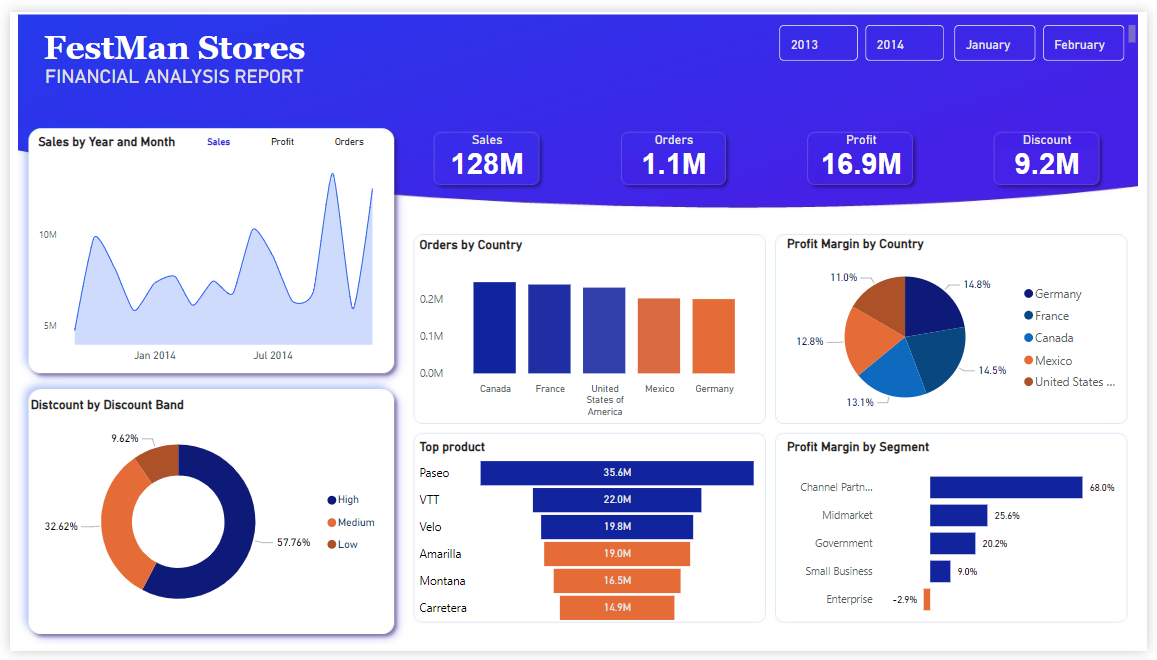

The dashboard page shown, as its layout file describes it:
{"tool":"powerbi","page":{"name":"Page 1","canvas":[1300,730],"ordinal":0},"visuals":[{"type":"areaChart","fields":{"Category":["Date table.Date.Variation.Date Hierarchy.Year","Date table.Date.Variation.Date Hierarchy.Quarter","Date table.Date.Variation.Date Hierarchy.Month","Date table.Date.Variation.Date Hierarchy.Day"],"Y":["Line selection table.Line selection"]},"box":[27.1,139.9,415.3,267.5],"z":0,"group":"g1"},{"type":"group","id":"g1","title":"Group 1","box":[27.1,123,415.3,284.4],"z":0},{"type":"advancedSlicerVisual","fields":{"Values":["Line selection table.Type"]},"box":[207.2,123,229.2,45.8],"z":1000,"group":"g1"},{"type":"textbox","box":[12.2,14.7,349.8,78.3],"z":1000},{"type":"card","title":"Sales","fields":{"Values":["Measure.Sales"]},"box":[486.2,137.6,119.3,59.6],"z":2000},{"type":"card","title":"Orders","fields":{"Values":["Measure.Orders"]},"box":[698.4,137.6,120.4,59.6],"z":3000},{"type":"card","title":"Profit","fields":{"Values":["Measure.Profit"]},"box":[912.8,137.6,120.4,59.6],"z":4000},{"type":"card","title":"Discount","fields":{"Values":["Measure.Distcount"]},"box":[1126.2,137.6,119.3,59.6],"z":5000},{"type":"donutChart","fields":{"Category":["Financials.Discount Band"],"Y":["Measure.Distcount"]},"box":[18.6,440,412.9,268.6],"z":10000},{"type":"columnChart","fields":{"Category":["Financials.Country"],"Y":["Measure.Orders"]},"box":[462.7,256.9,397.5,214.1],"z":11000},{"type":"barChart","fields":{"Category":["Financials.Segment"],"Y":["Measure.Profit Margin"]},"box":[882.5,489,397.5,214.1],"z":12000},{"type":"funnel","title":"Top product","fields":{"Category":["Financials.Product"],"Y":["Measure.Sales"]},"box":[462.8,488.5,397.3,214.5],"z":13000},{"type":"pieChart","fields":{"Category":["Financials.Country"],"Y":["Measure.Profit Margin"]},"box":[882.5,256.2,397.5,215],"z":14000},{"type":"advancedSlicerVisual","fields":{"Values":["Date table.Year"]},"box":[874.9,9.7,199.4,51.4],"z":15000},{"type":"advancedSlicerVisual","fields":{"Values":["Date table.Date.Variation.Date Hierarchy.Month"]},"box":[1074.3,9.7,217.7,51.4],"z":16000}]}

Visuals, with their boxes in screenshot pixels (x1, y1, x2, y2), scaled from the page's 1300x730 canvas onto the 1157x660 screenshot:
areaChart - Date table.Date.Variation.Date Hierarchy.Year x Date table.Date.Variation.Date Hierarchy.Quarter: bbox(24, 126, 394, 368)
"Group 1" group: bbox(24, 111, 394, 368)
advancedSlicerVisual - Line selection table.Type: bbox(184, 111, 388, 153)
textbox: bbox(11, 13, 322, 84)
"Sales" card: bbox(433, 124, 539, 178)
"Orders" card: bbox(622, 124, 729, 178)
"Profit" card: bbox(812, 124, 920, 178)
"Discount" card: bbox(1002, 124, 1108, 178)
donutChart - Financials.Discount Band x Measure.Distcount: bbox(17, 398, 384, 641)
columnChart - Financials.Country x Measure.Orders: bbox(412, 232, 766, 426)
barChart - Financials.Segment x Measure.Profit Margin: bbox(785, 442, 1139, 636)
"Top product" funnel: bbox(412, 442, 765, 636)
pieChart - Financials.Country x Measure.Profit Margin: bbox(785, 232, 1139, 426)
advancedSlicerVisual - Date table.Year: bbox(779, 9, 956, 55)
advancedSlicerVisual - Date table.Date.Variation.Date Hierarchy.Month: bbox(956, 9, 1150, 55)
